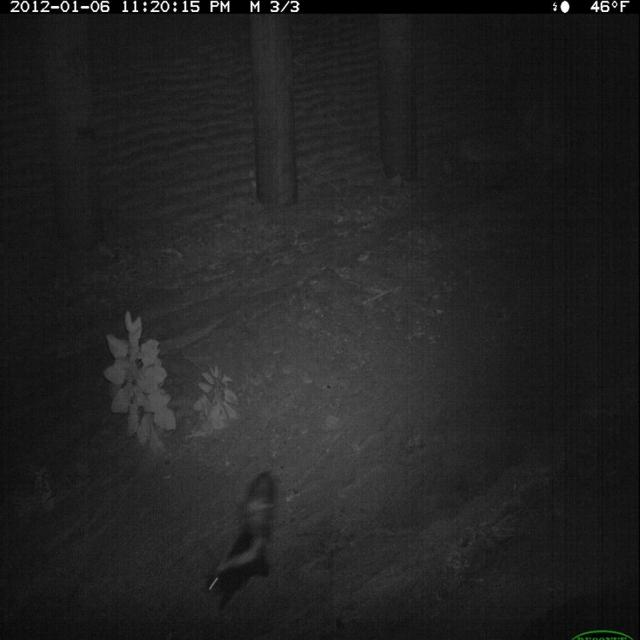skunk: (202, 466, 284, 618)
